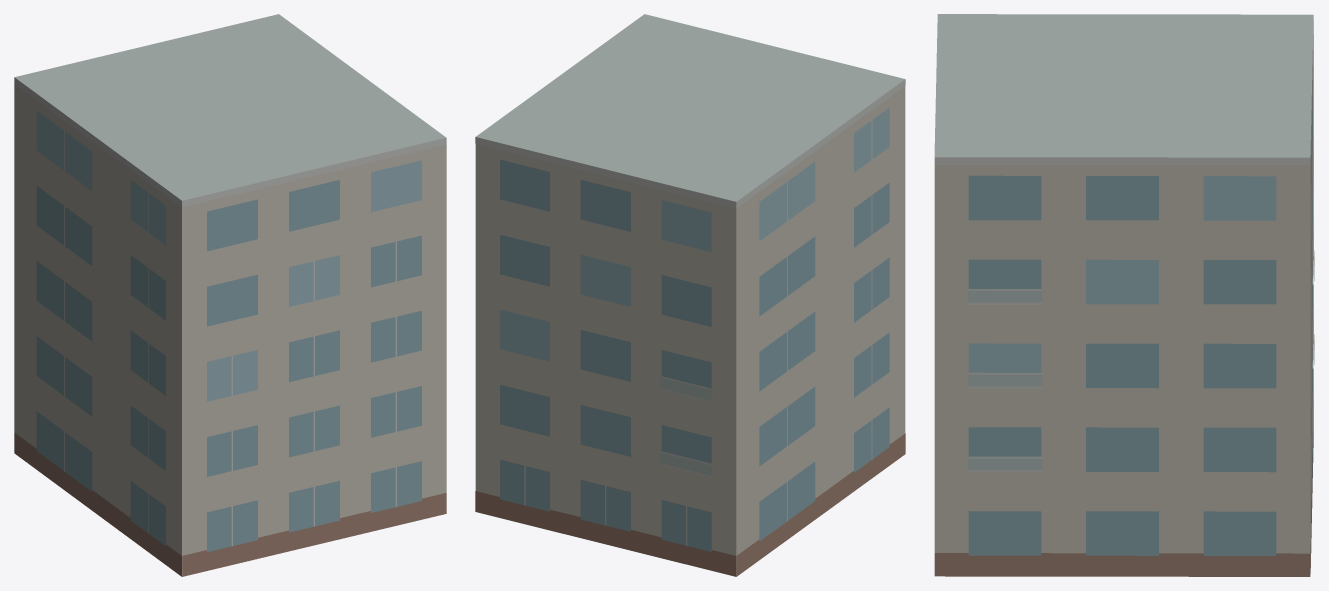
Rendered from survey-upis-33022610.glb.
The picture shows the model from 3 angles, left to right: view 1: azimuth 30°, elevation 25°; view 2: azimuth 150°, elevation 25°; view 3: azimuth 270°, elevation 25°; orthographic projection. The views are drawn at different scales.
Parts seen in each view (by area): view 1: survey-upis-33022610.tmp; view 2: survey-upis-33022610.tmp; view 3: survey-upis-33022610.tmp.
Boxes of the visible parts, bbox=[...] form: survey-upis-33022610.tmp: bbox=[14, 14, 446, 576]; survey-upis-33022610.tmp: bbox=[475, 14, 905, 576]; survey-upis-33022610.tmp: bbox=[934, 14, 1314, 576].
Bounding box in the file's own units: 10.08 × 13.7 × 11.27.
